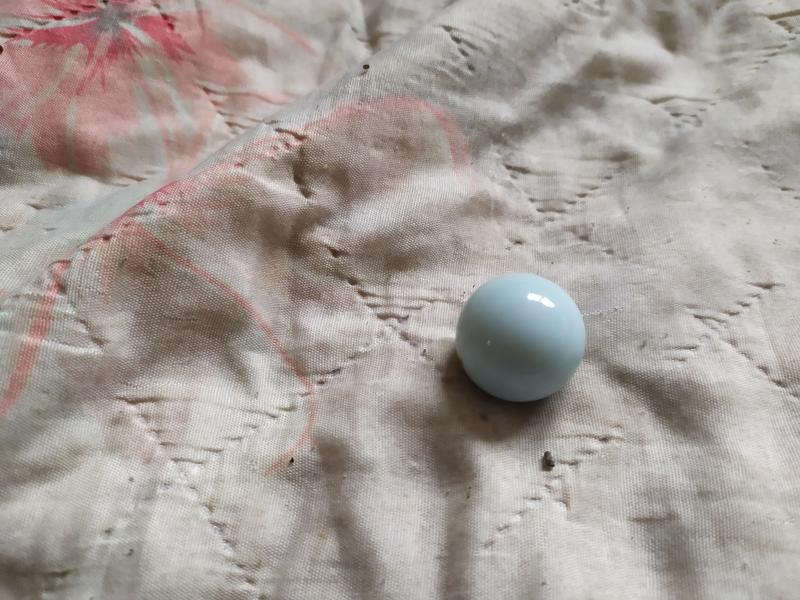Warning: (452, 269, 590, 405)
